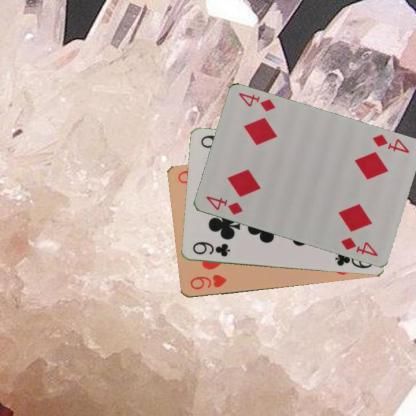4d: (203, 193, 244, 217), (369, 132, 410, 155)
9c: (190, 239, 231, 258)
9h: (187, 272, 228, 291)
